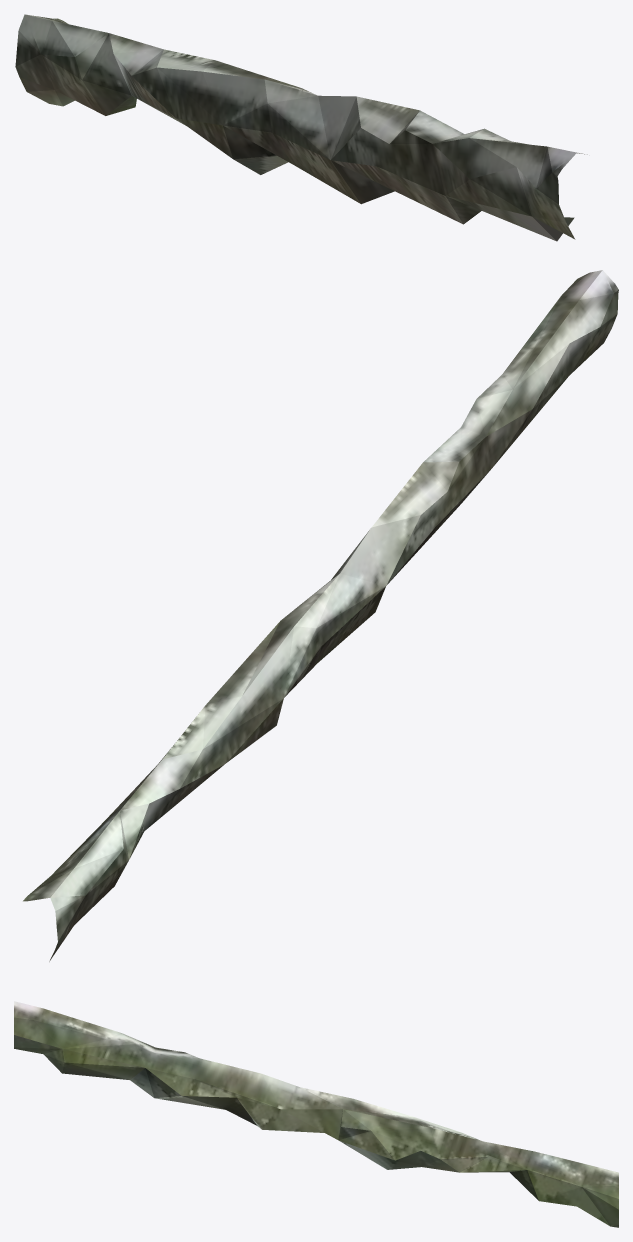
3 views of the same model, one above another, from view 1: azimuth 30°, elevation 25°; view 2: azimuth 150°, elevation 25°; view 3: azimuth 270°, elevation 25° (orthographic). The views are drawn at different scales.
Size of the model in its own units: 0.3241 by 1.11 by 2.95.
1 material, 1 textured.
